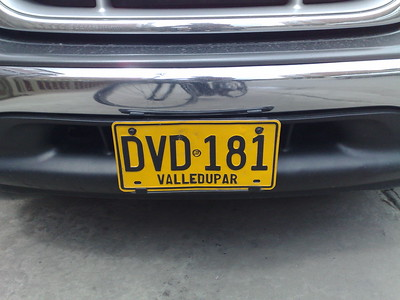placa_carro: (101, 109, 295, 206)
